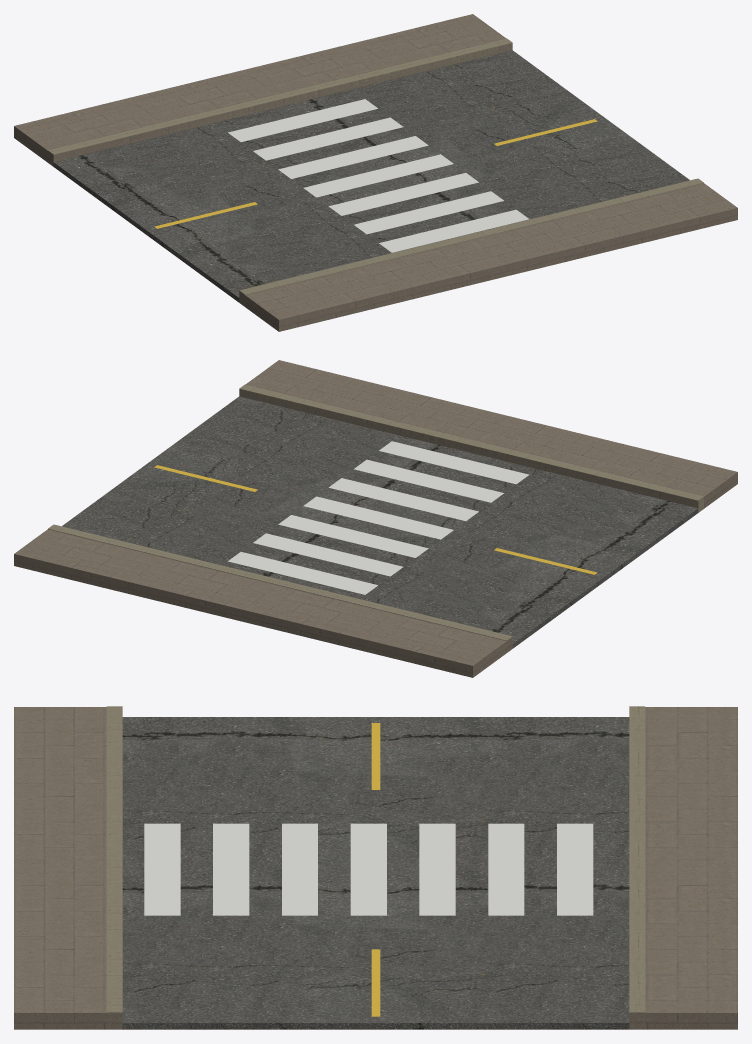
The model's file is road_crosswalk.gltf.
The picture shows the model from 3 angles, top to bottom: view 1: azimuth 30°, elevation 25°; view 2: azimuth 150°, elevation 25°; view 3: azimuth 270°, elevation 25°; orthographic projection. The views are drawn at different scales.
Visible parts, largest first — view 1: road_crosswalk; view 2: road_crosswalk; view 3: road_crosswalk.
Part boxes in pixels (x1=…): road_crosswalk: x1=14, y1=14, x2=737, y2=331; road_crosswalk: x1=14, y1=360, x2=737, y2=677; road_crosswalk: x1=14, y1=706, x2=737, y2=1029.
Size of what is drawn, in the model's own units: 10 by 0.26 by 10.
Materials: 5 (3 with a texture image).
